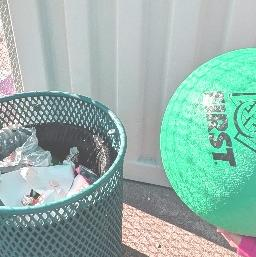algae: (156, 45, 256, 231)
